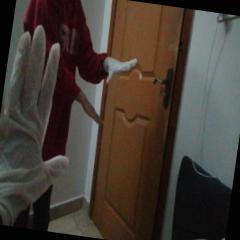gloved: (0, 22, 65, 210), (104, 55, 138, 88)
not-gloved: (80, 94, 107, 124)
